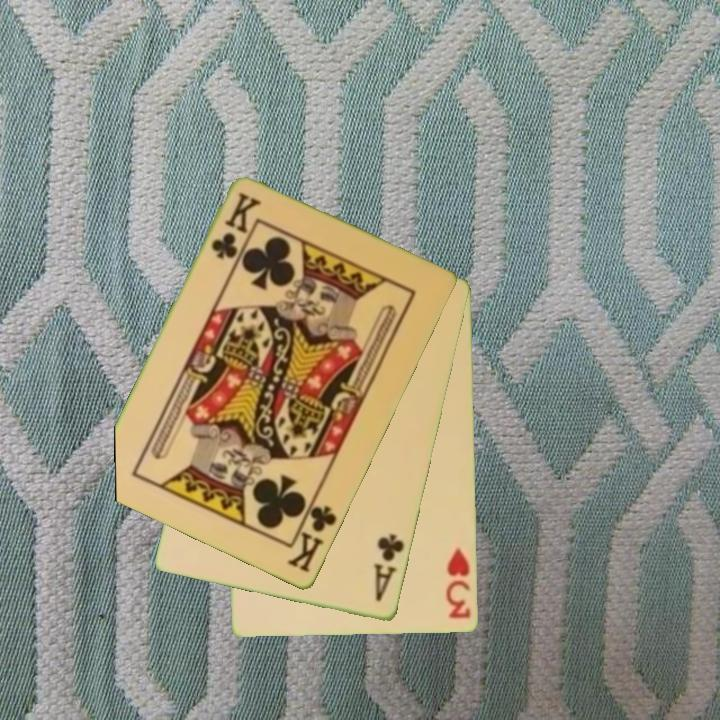3h: (443, 545, 474, 622)
Ac: (371, 531, 408, 605)
Kc: (284, 493, 340, 576), (207, 189, 263, 263)
